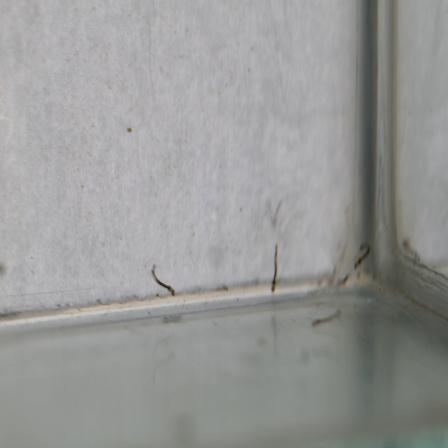Jentik-Nyamuk: (148, 260, 177, 299), (264, 242, 283, 295), (349, 239, 374, 270)
